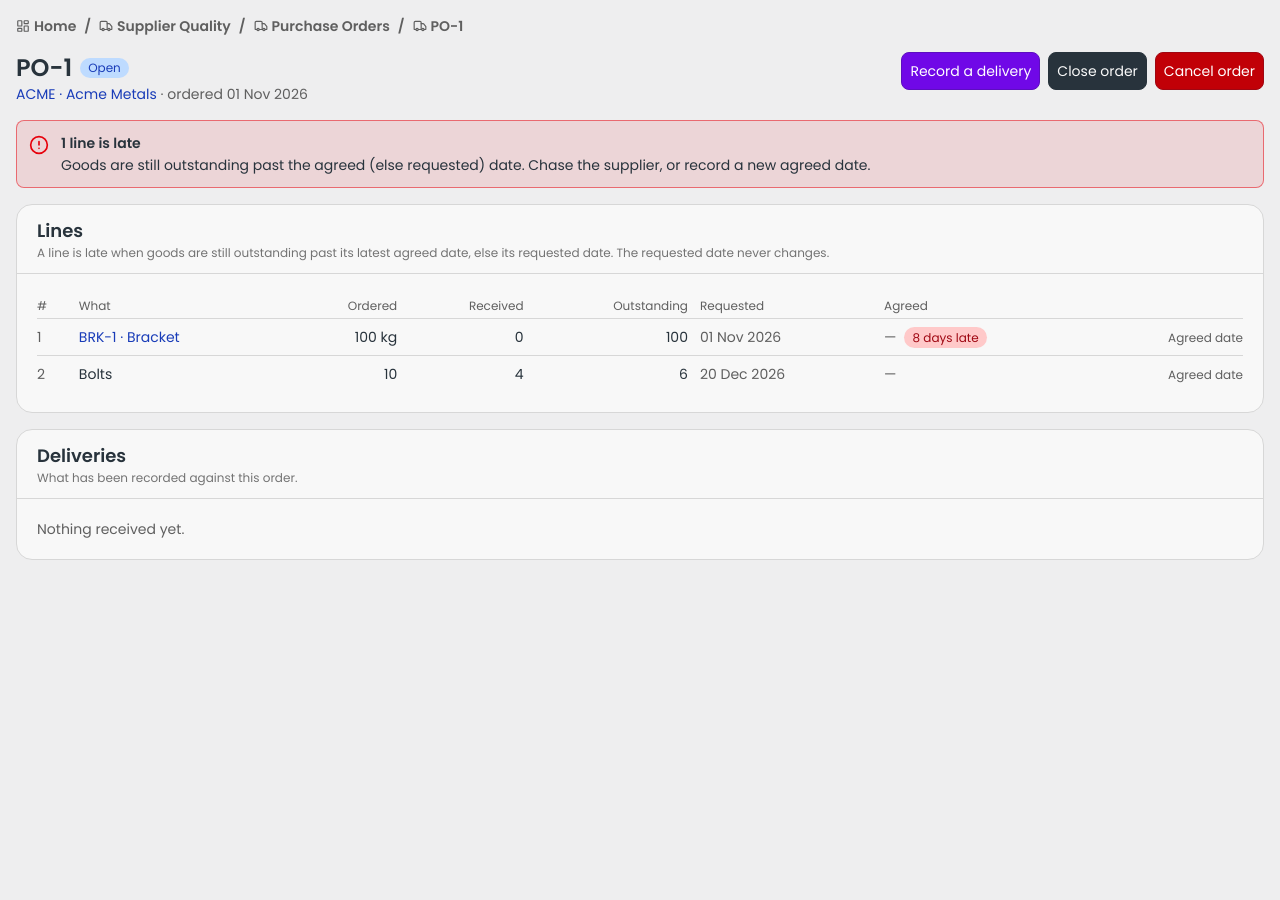
it: purchase order page › sets the agreed date without touching the requested one
The image size is (1280, 900).
Later steps or results of the test are not shown.
What coordinates should you click on to do the following:
click the button with aria-label "Set the agreed date for line 1"
I would click on:
 (1206, 338)
Its box is [1168,330,1243,346].
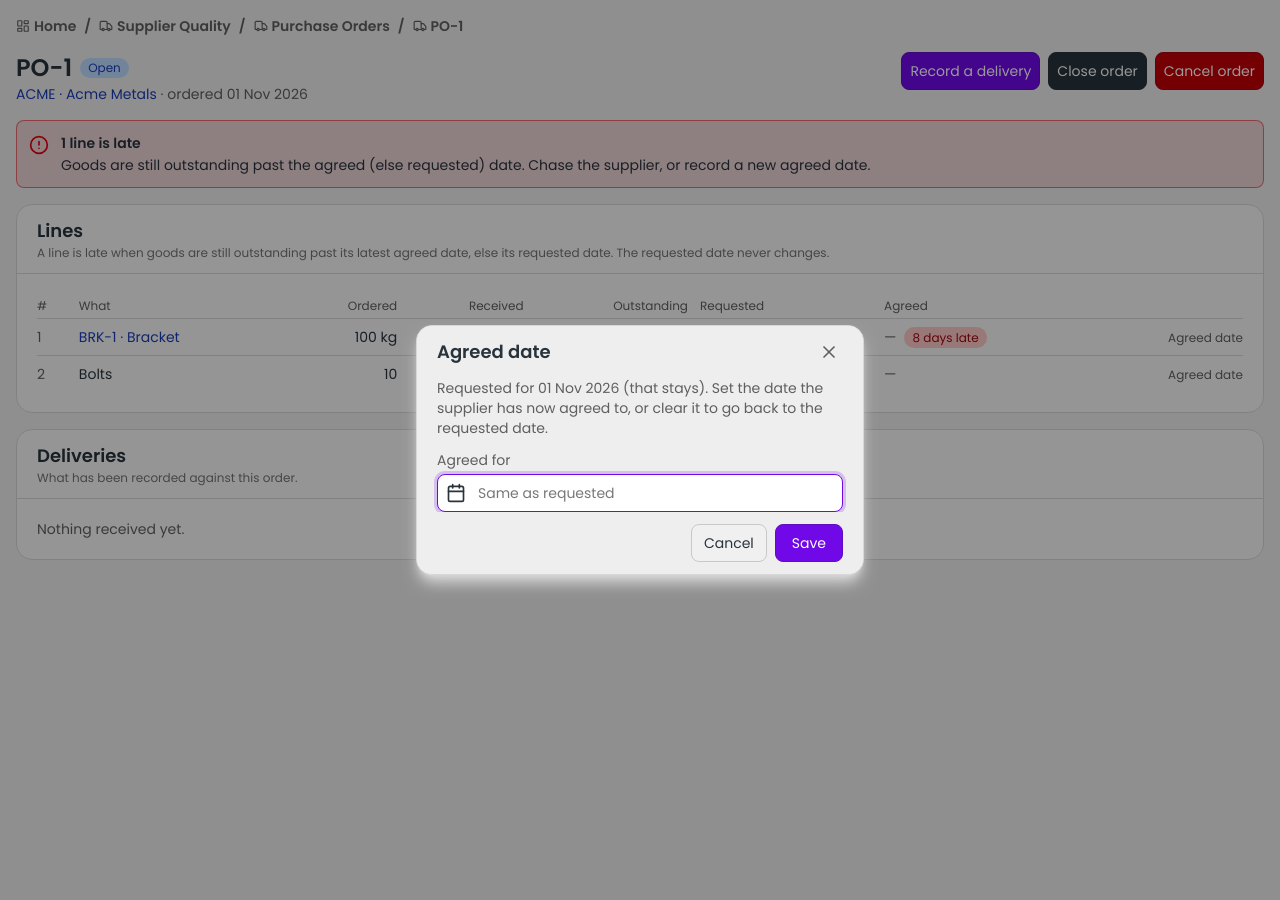
Now the text "that stays" is shown, box [437,378,823,438]
